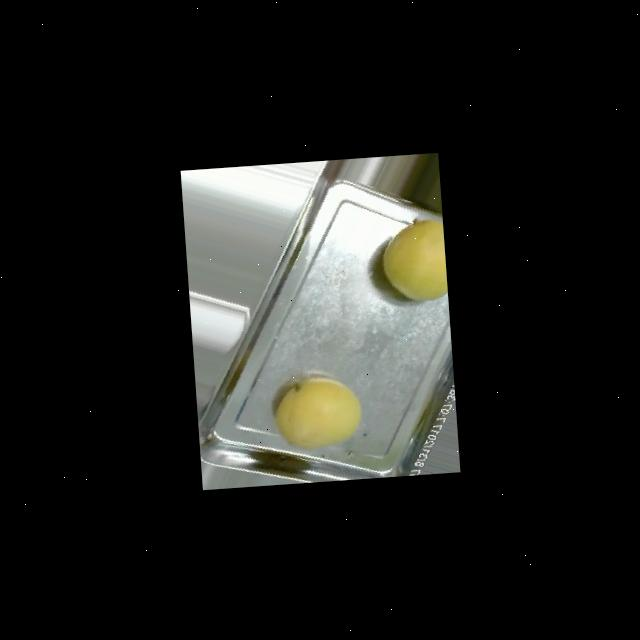Mango: (273, 372, 365, 452), (379, 216, 448, 304)
